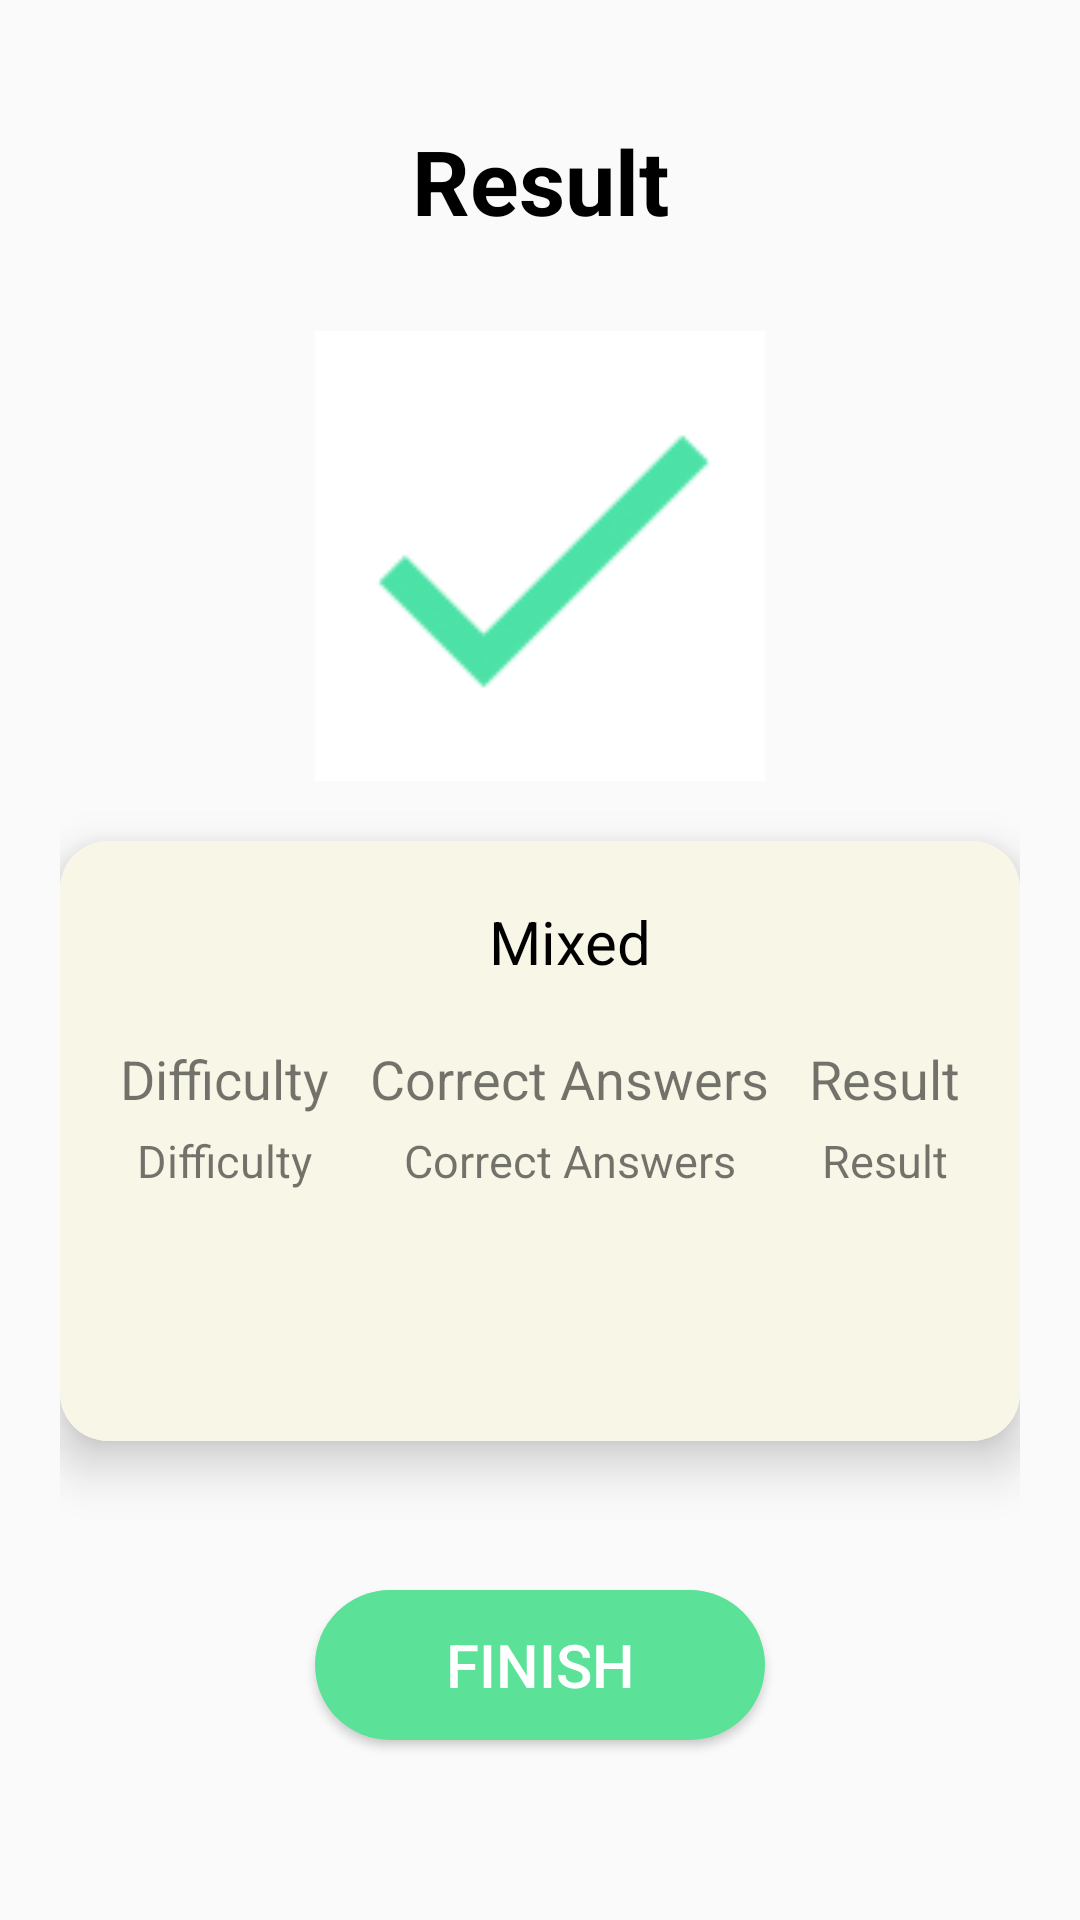

Icon click points for this 1080 x 1920 phone screenshot, format (x,y):
done: (544,561)
